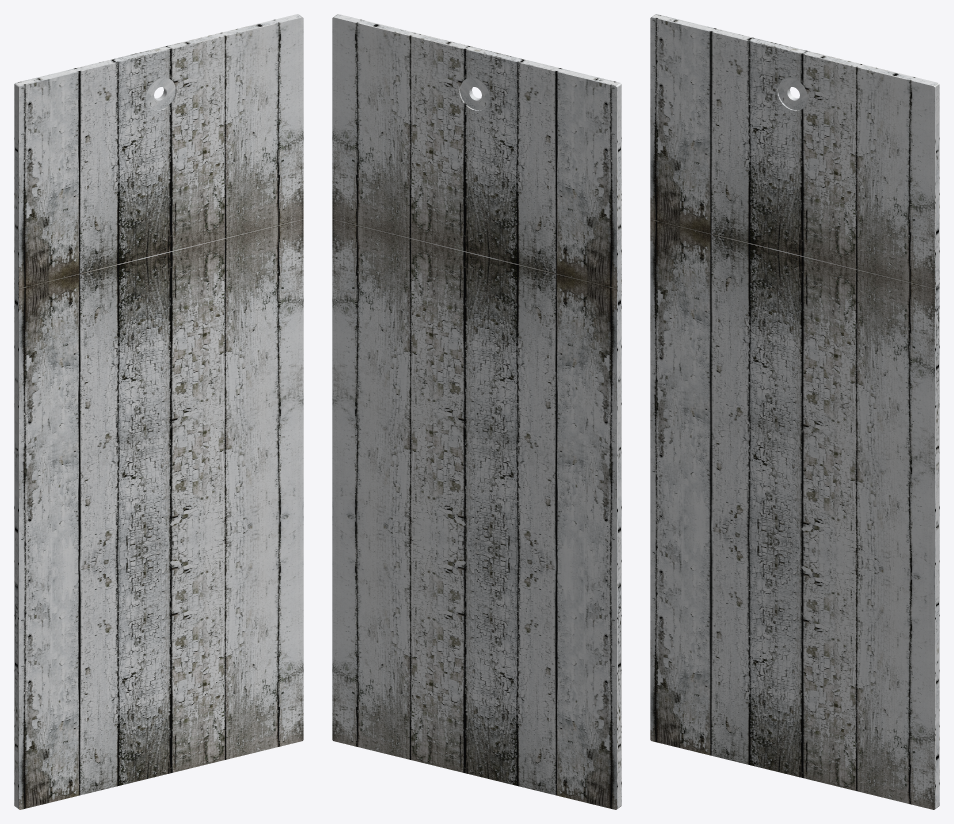
The model's file is newObject.obj.
The picture shows the model from 3 angles, left to right: view 1: azimuth 30°, elevation 25°; view 2: azimuth 150°, elevation 25°; view 3: azimuth 330°, elevation 25°; orthographic projection.
Visible parts, largest first — view 1: 0______011; view 2: 0______011; view 3: 0______011.
Boxes of the visible parts, x1,y1,x2,y2 form: 0______011: [14, 14, 303, 809]; 0______011: [332, 14, 621, 809]; 0______011: [650, 14, 939, 809].
Bounding box in the file's own units: 0.56 × 1.36 × 0.016.
1 material, 1 textured.
